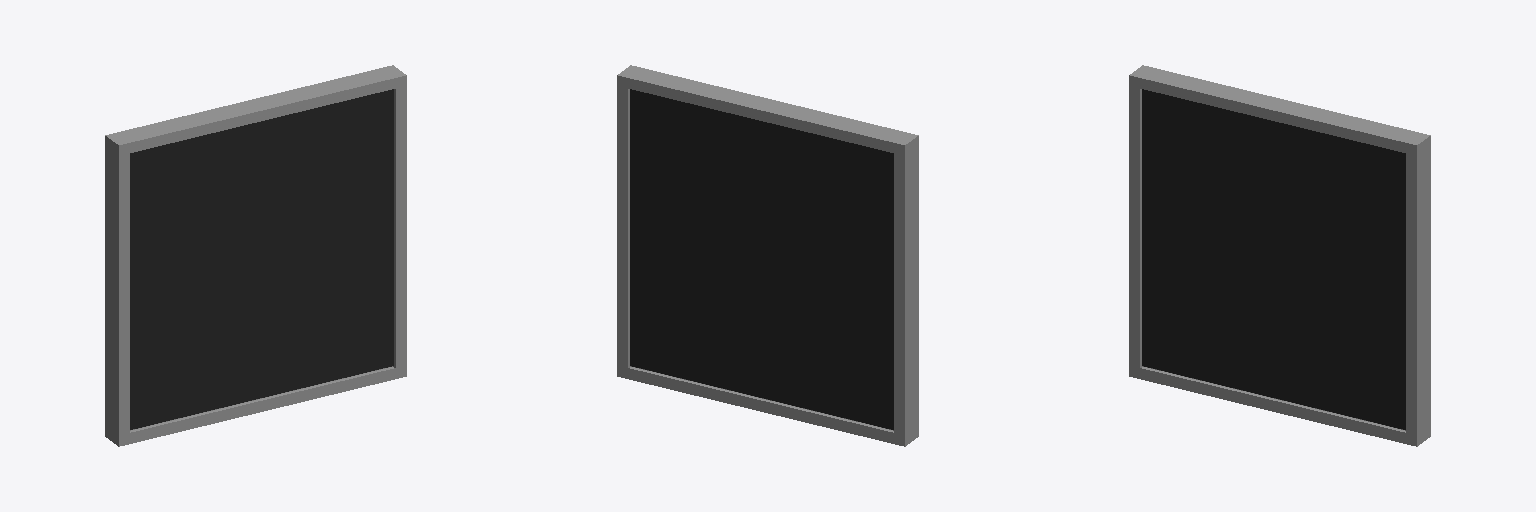
The model's file is window.obj.
The picture shows the model from 3 angles: view 1: azimuth 30°, elevation 25°; view 2: azimuth 150°, elevation 25°; view 3: azimuth 330°, elevation 25°; orthographic projection.
Size of the model in its own units: 0.48 by 0.48 by 0.04.